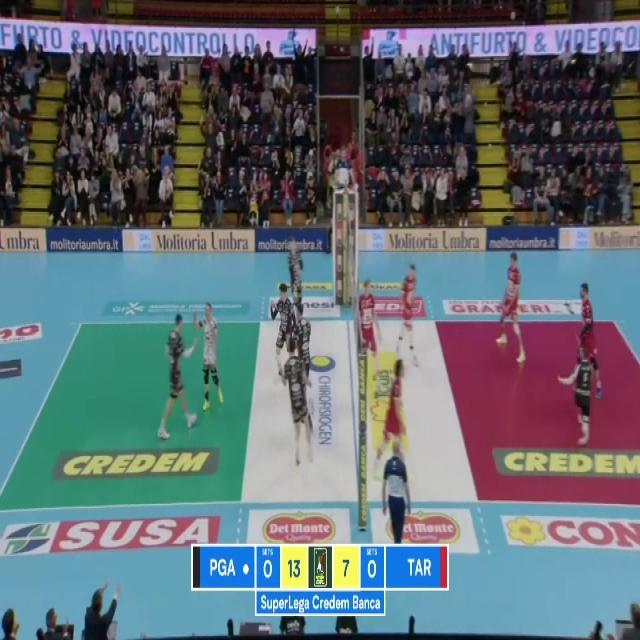volleyball court: (1, 312, 638, 521)
